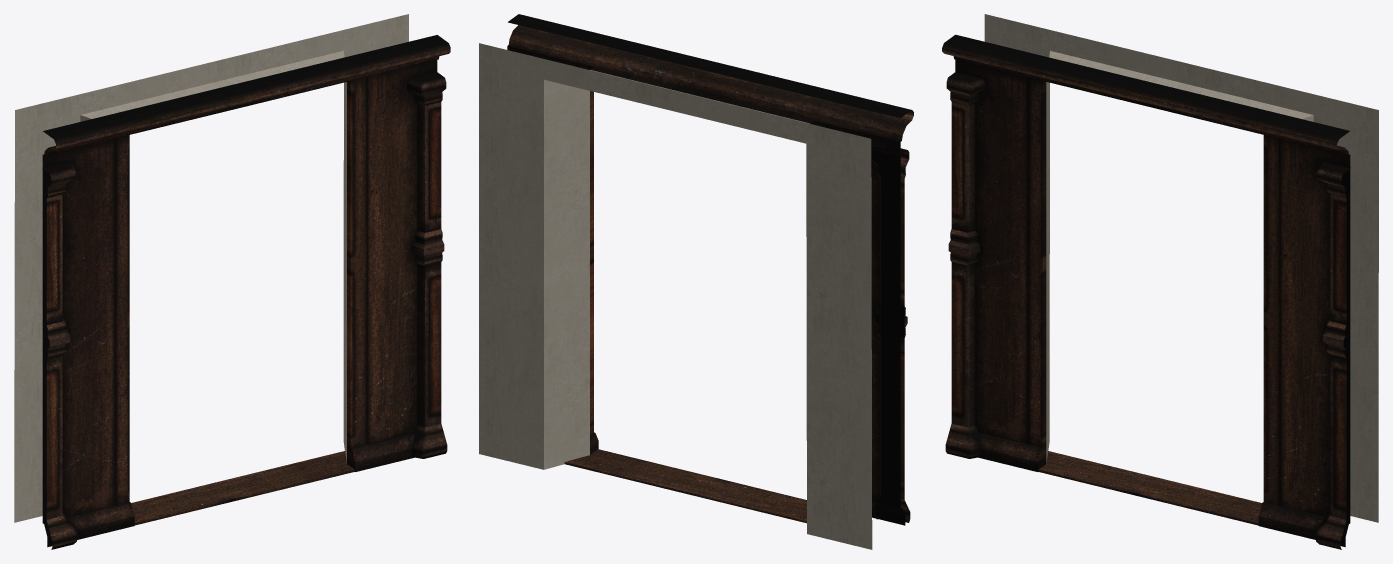
Rendered from default02_secret_door_frame.DAE.
3 renders of one model, left to right at view 1: azimuth 30°, elevation 25°; view 2: azimuth 150°, elevation 25°; view 3: azimuth 330°, elevation 25°, orthographic.
Visible parts, largest first — view 1: Object005, Object002; view 2: Object002, Object005; view 3: Object005, Object002.
Boxes of the visible parts, x1,y1,x2,y2 form: Object005: (42, 35, 450, 549); Object002: (14, 14, 408, 522); Object002: (479, 43, 872, 549); Object005: (507, 14, 913, 525); Object005: (942, 34, 1350, 549); Object002: (984, 14, 1378, 522).
Bounding box in the file's own units: 4 × 0.733 × 3.99.
